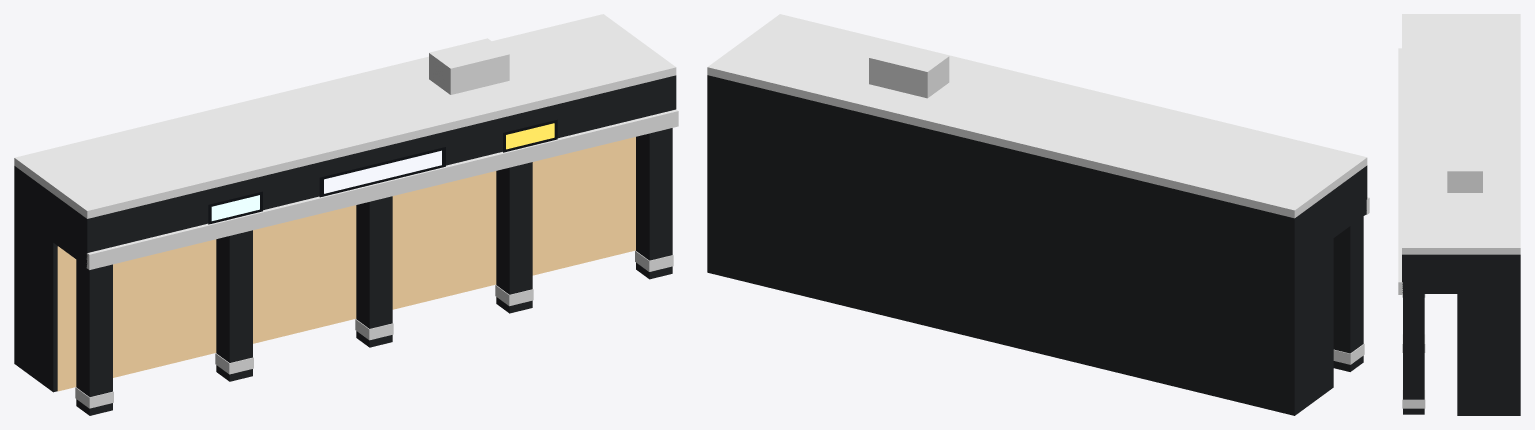
Rendered from shop_arcade.gltf.
The picture shows the model from 3 angles, left to right: view 1: azimuth 30°, elevation 25°; view 2: azimuth 150°, elevation 25°; view 3: azimuth 270°, elevation 25°; orthographic projection. The views are drawn at different scales.
Parts seen in each view (by area): view 1: steel, graphite, shopwall, detail_titanium, detail_hazard, detail_dark, sign, glow_amber, glow_cyan; view 2: graphite, steel, detail_titanium; view 3: steel, graphite, detail_titanium, detail_hazard.
Boxes of the visible parts, x1,y1,x2,y2 form: steel: (14, 14, 678, 269); graphite: (14, 75, 676, 415); shopwall: (57, 137, 635, 391); detail_titanium: (429, 38, 509, 94); detail_hazard: (75, 250, 673, 408); detail_dark: (208, 119, 557, 224); sign: (324, 150, 441, 193); glow_amber: (506, 123, 554, 149); glow_cyan: (211, 195, 259, 220); graphite: (707, 75, 1367, 415); steel: (707, 14, 1369, 218); detail_titanium: (869, 42, 949, 98); steel: (1398, 14, 1520, 294); graphite: (1402, 254, 1520, 415); detail_titanium: (1447, 148, 1482, 192); detail_hazard: (1402, 294, 1425, 408).
Size of the model in its own units: 14 by 5.28 by 3.09.
